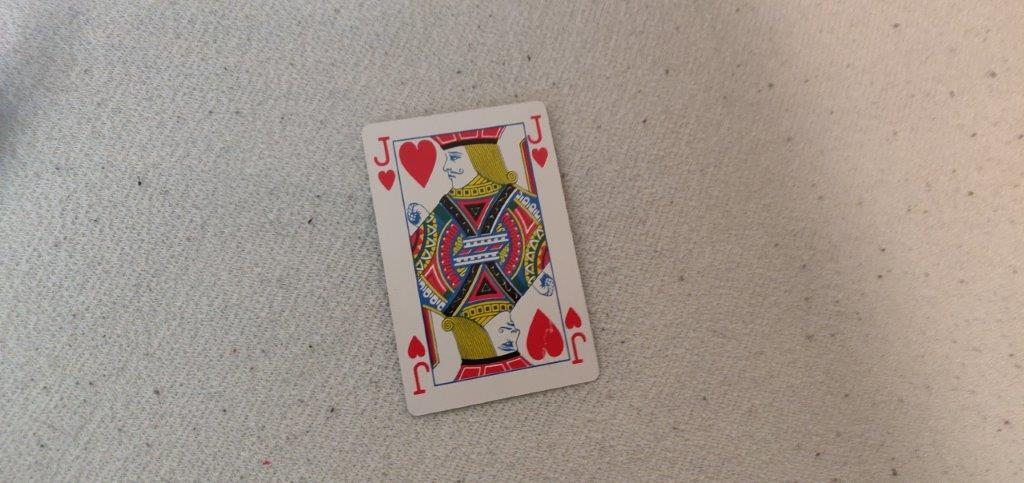JH: (524, 108, 560, 178), (368, 131, 404, 193)
